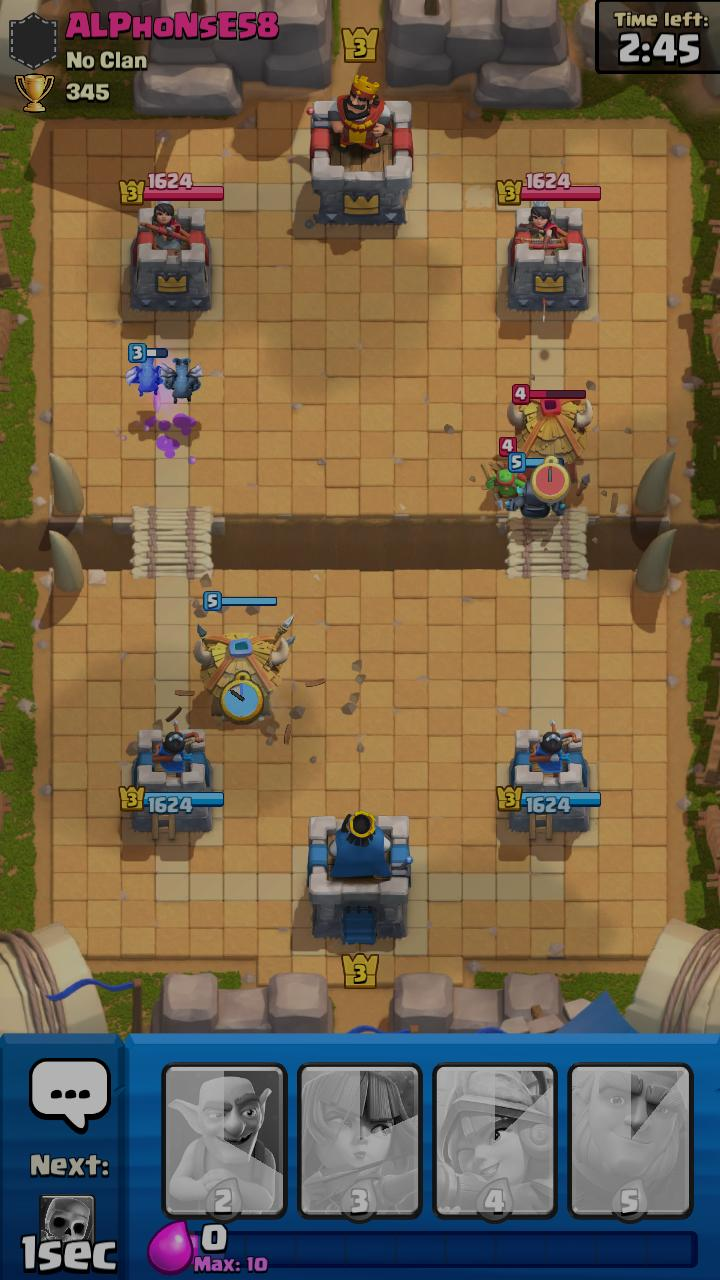ally: (194, 591, 295, 721), (505, 452, 565, 518), (125, 343, 168, 397), (159, 357, 204, 404)
enemy: (507, 384, 593, 496), (480, 437, 527, 509)
